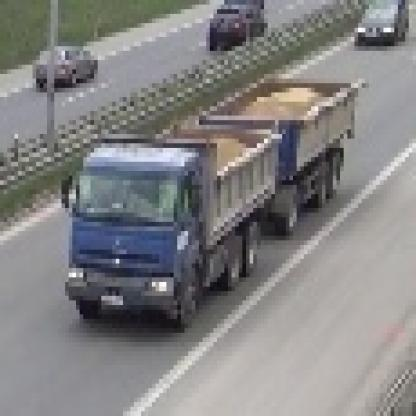truck: (59, 75, 355, 329)
